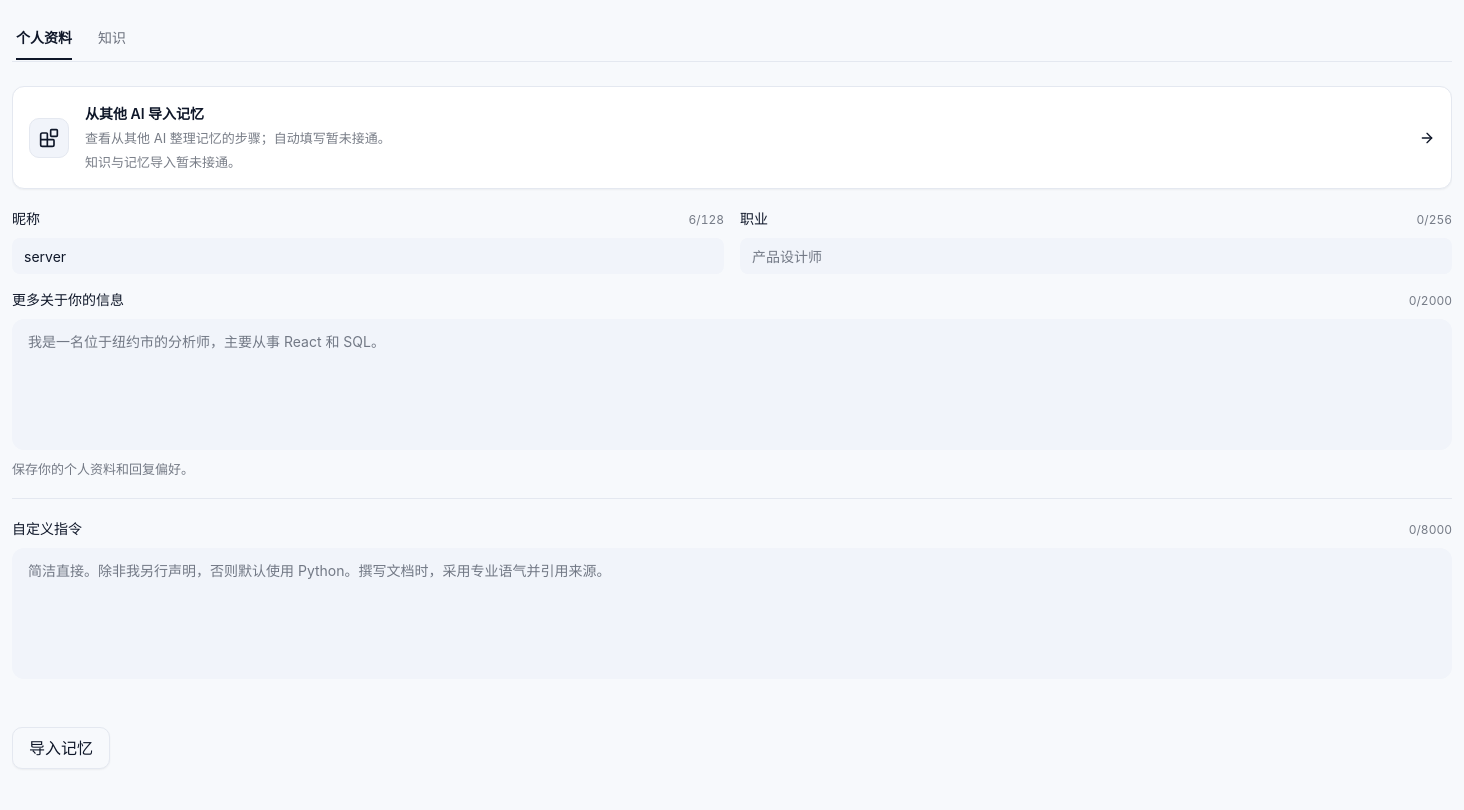
Scenario: does not retry an unknown PUT outcome on blur and aborts in-flight work on unmount
Replace the text in the field labelled "昵称" with "mine". click: (368, 256)
box: [12,238,724,274]
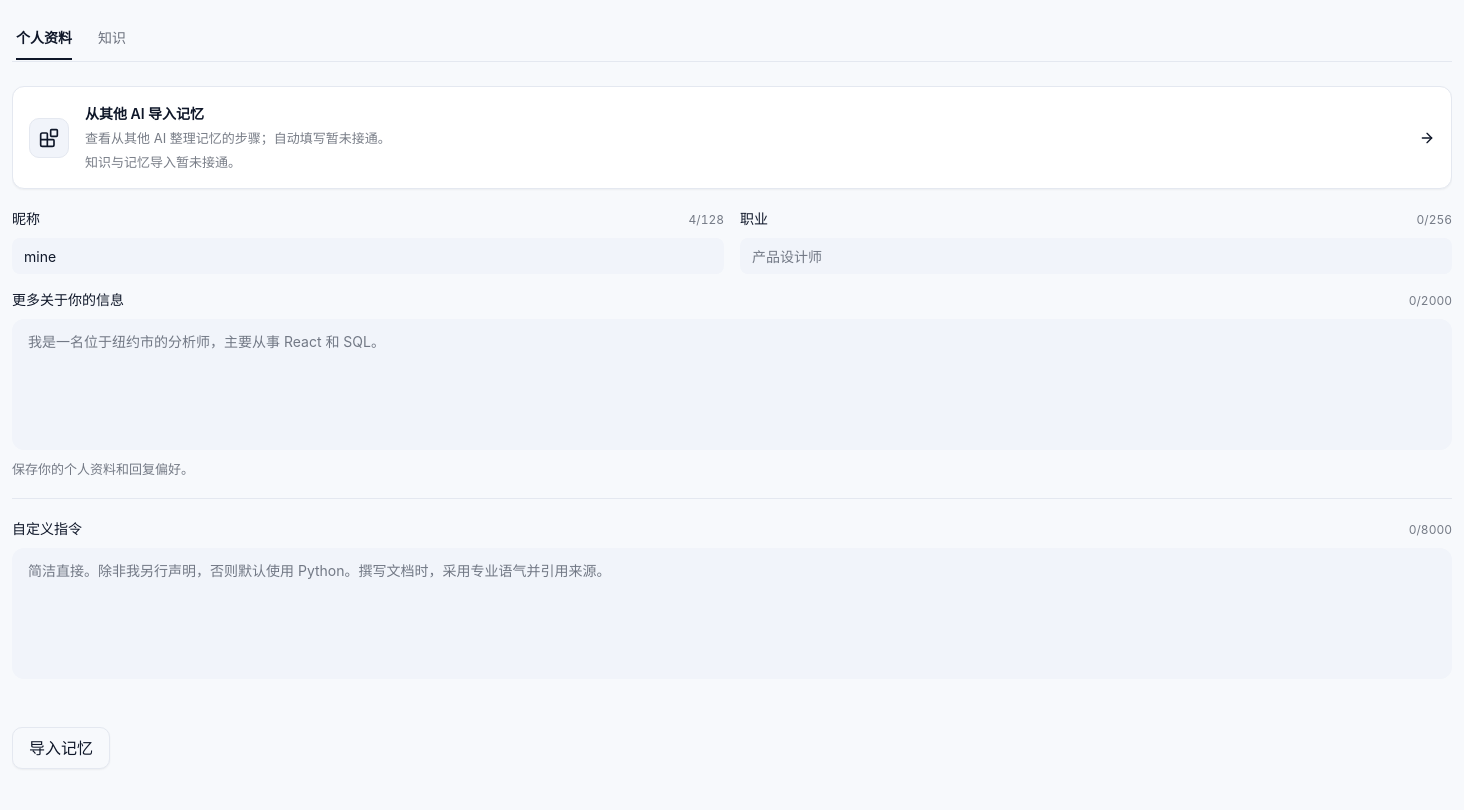
Leave the field labelled "昵称", box [12,238,724,274]
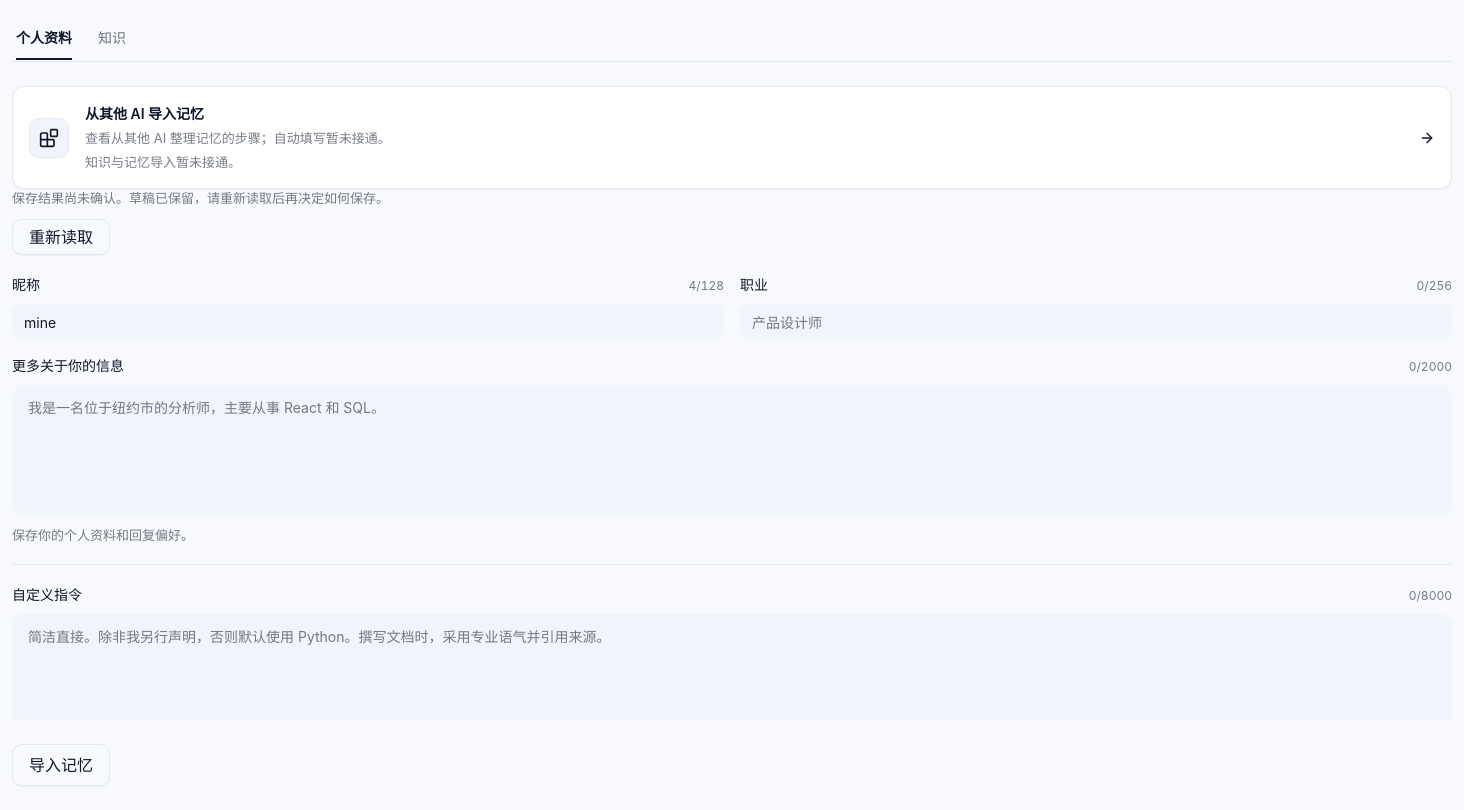
Check: the button "重新读取" is shown, box [12,219,110,255]
